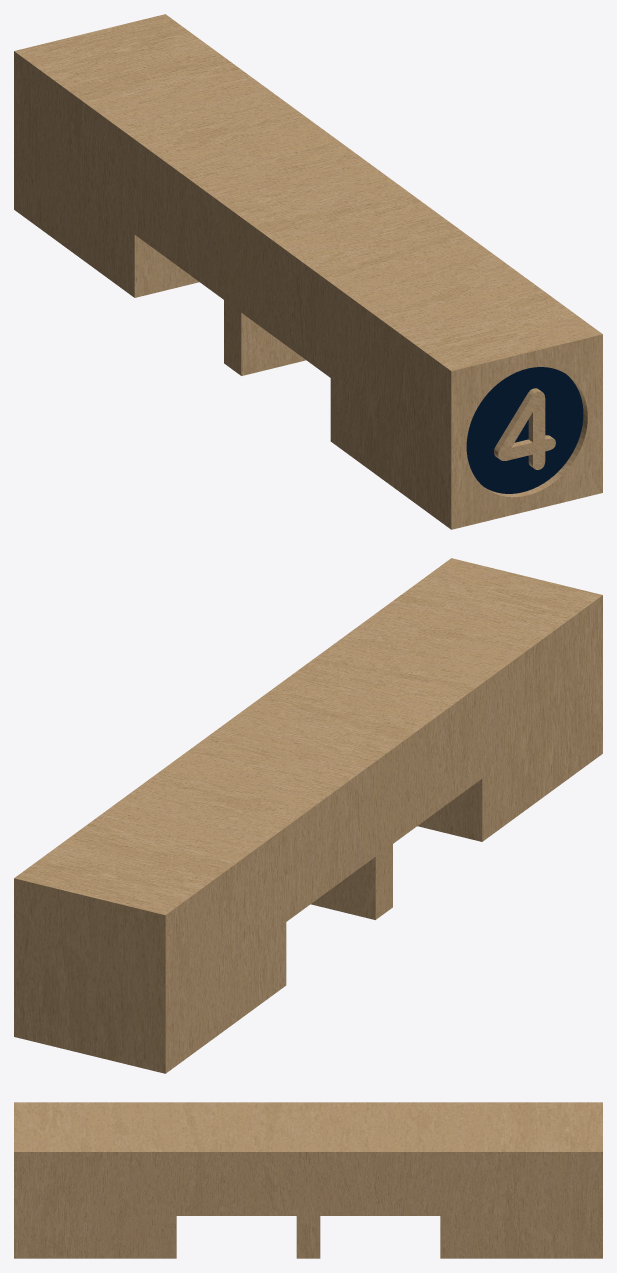
The model's file is Piece4.glb.
3 renders of one model, top to bottom at view 1: azimuth 30°, elevation 25°; view 2: azimuth 150°, elevation 25°; view 3: azimuth 270°, elevation 25°, orthographic. The views are drawn at different scales.
Visible parts, largest first — view 1: Piece4; view 2: Piece4; view 3: Piece4.
Boxes of the visible parts, bbox=[...] form: Piece4: bbox=[14, 14, 602, 529]; Piece4: bbox=[14, 558, 602, 1073]; Piece4: bbox=[14, 1102, 602, 1258].
Size of the model in its own units: 10 by 10 by 50.
Materials: 2 (1 with a texture image).
